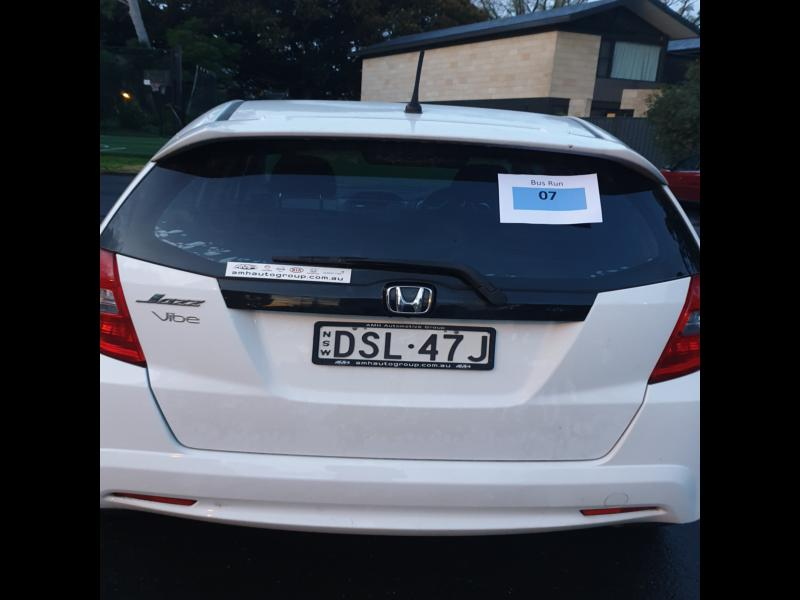BusRun: (515, 189, 589, 211)
PlateNo: (318, 320, 496, 367)
